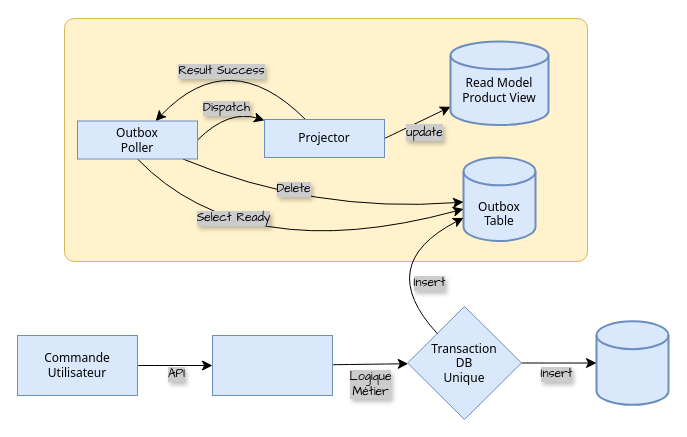
This 687x437 diagram has some shape labels left out. The box of each missing label's shape, as (x1, y1, x2, y2) in pixels:
Domain Service: (212, 334, 332, 396)
Event Log Table: (595, 320, 669, 405)
Traitement asynchrone: (64, 18, 588, 262)
